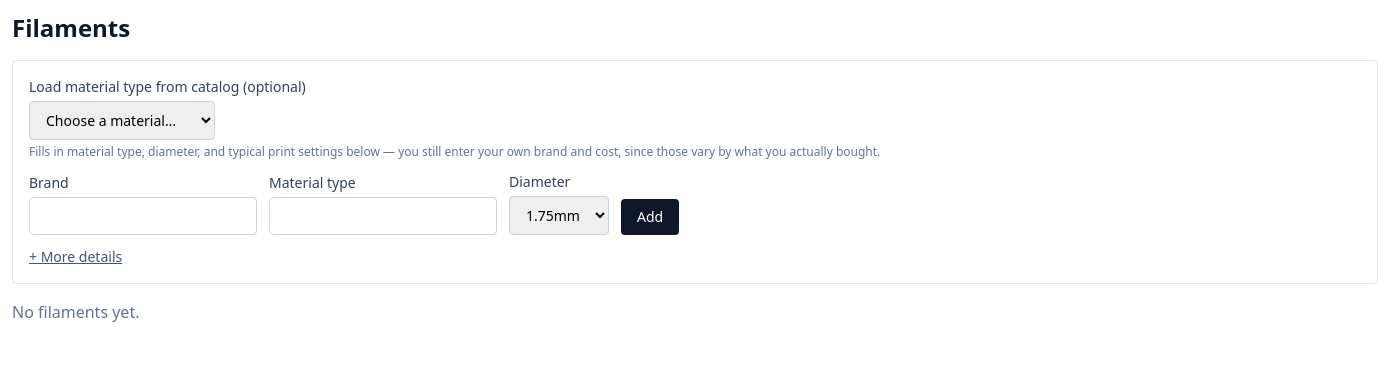
FilamentsListPage — inline add form › creates a filament via the essentials-only form and shows the new row without a manual refetch
Expected: the text "No filaments yet." is shown, [12,301,140,323]
In the field labelled "Brand": (143, 216) [29,197,257,235], type "eSun"
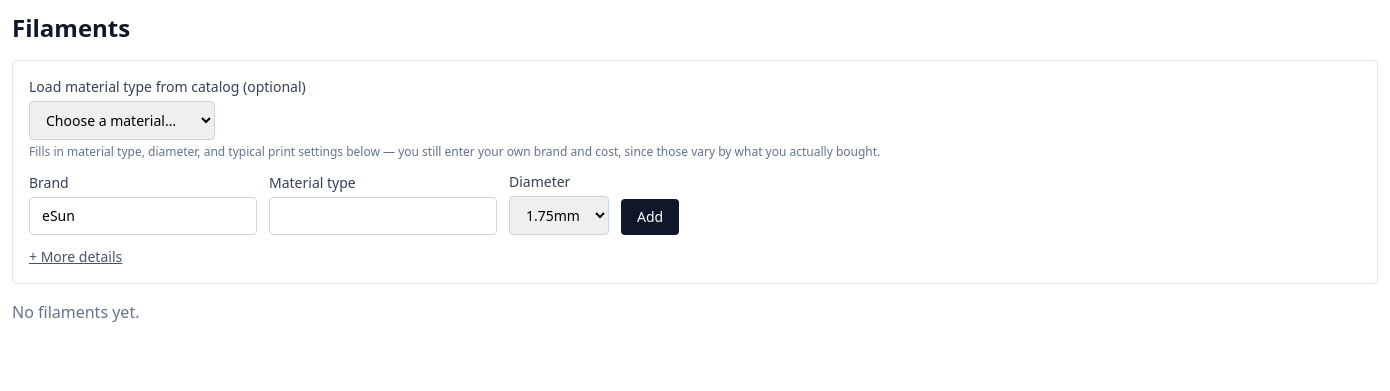
In the field labelled "Material type": (383, 216) [269,197,497,235], type "PLA"
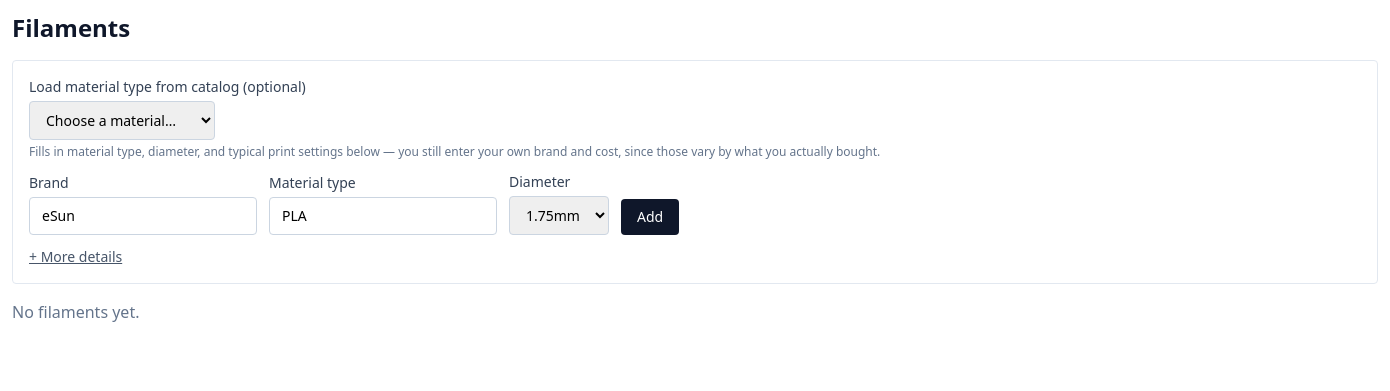
Click the button "Add": (650, 217) [621,199,679,235]
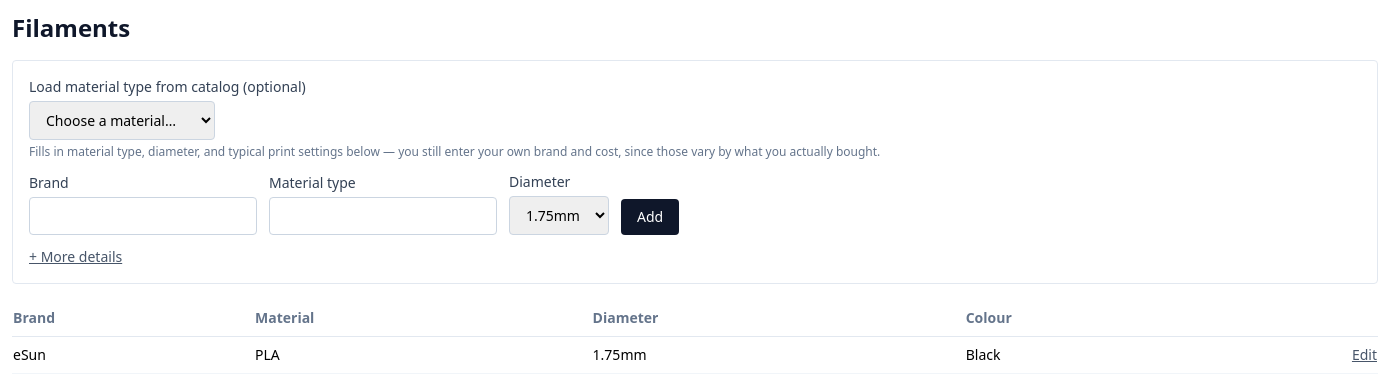
Now the text "eSun" is shown, box [12,336,254,374]
